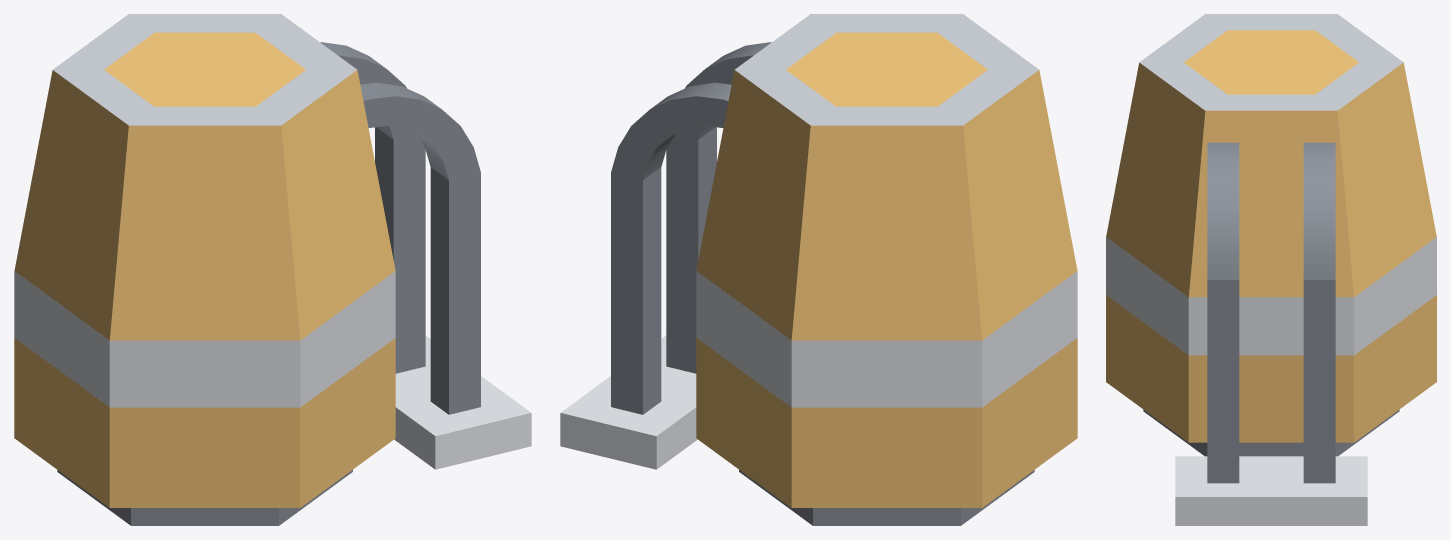
The model's file is machine_barrel.glb.
3 renders of one model, left to right at view 1: azimuth 30°, elevation 25°; view 2: azimuth 150°, elevation 25°; view 3: azimuth 270°, elevation 25°, orthographic. The views are drawn at different scales.
Parts seen in each view (by area): view 1: machine_barrel; view 2: machine_barrel; view 3: machine_barrel.
Part boxes in pixels (<box>): machine_barrel: <box>14,14,531,525</box>; machine_barrel: <box>560,14,1077,525</box>; machine_barrel: <box>1106,14,1436,525</box>.
Size of the model in its own units: 0.6464 by 0.6 by 0.5155.
